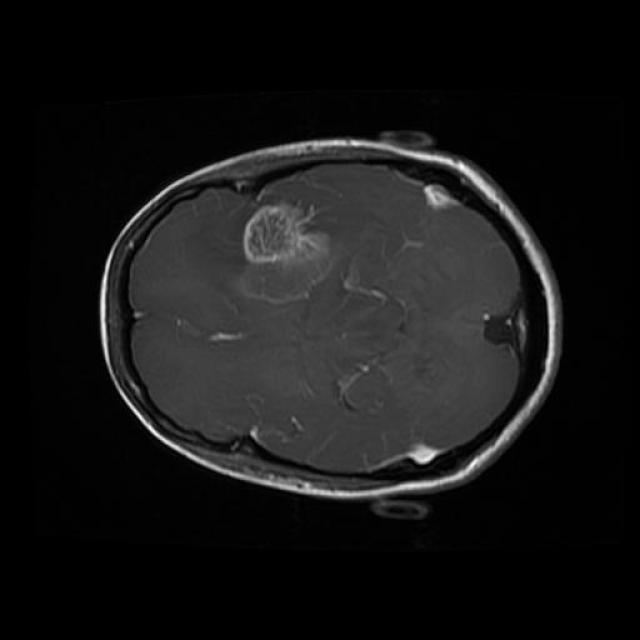Glioma: (238, 204, 331, 304)
